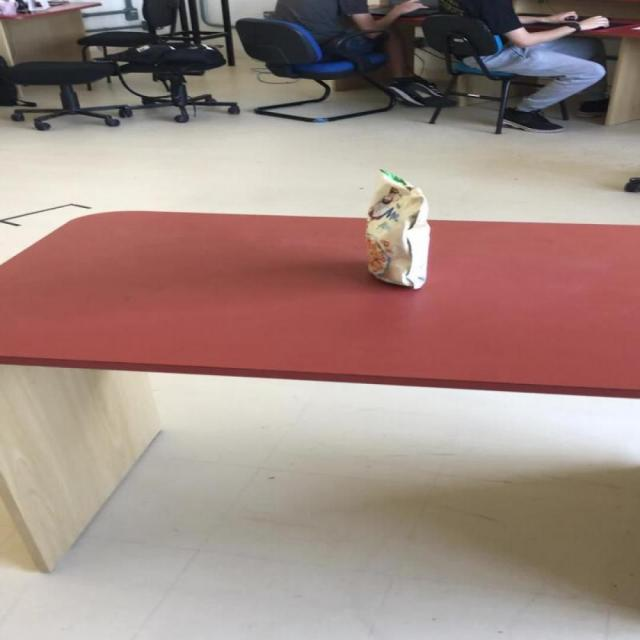CornFlakes: (362, 168, 430, 289)
